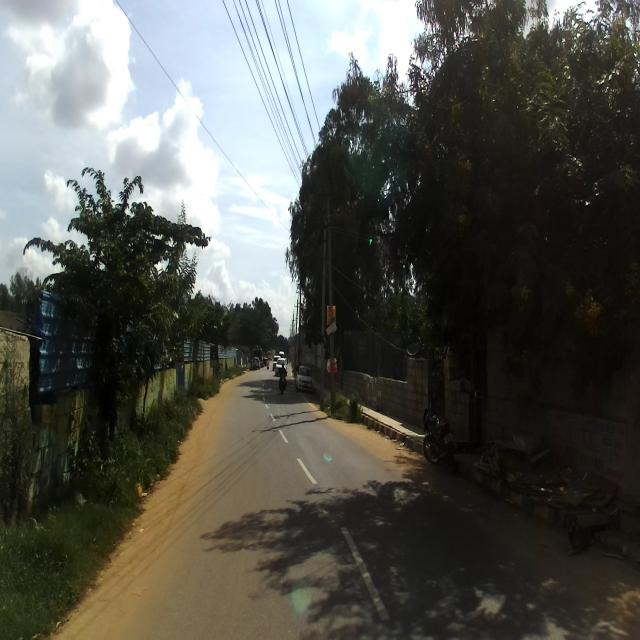car: (296, 362, 314, 393)
motorcycle: (419, 398, 459, 474)
